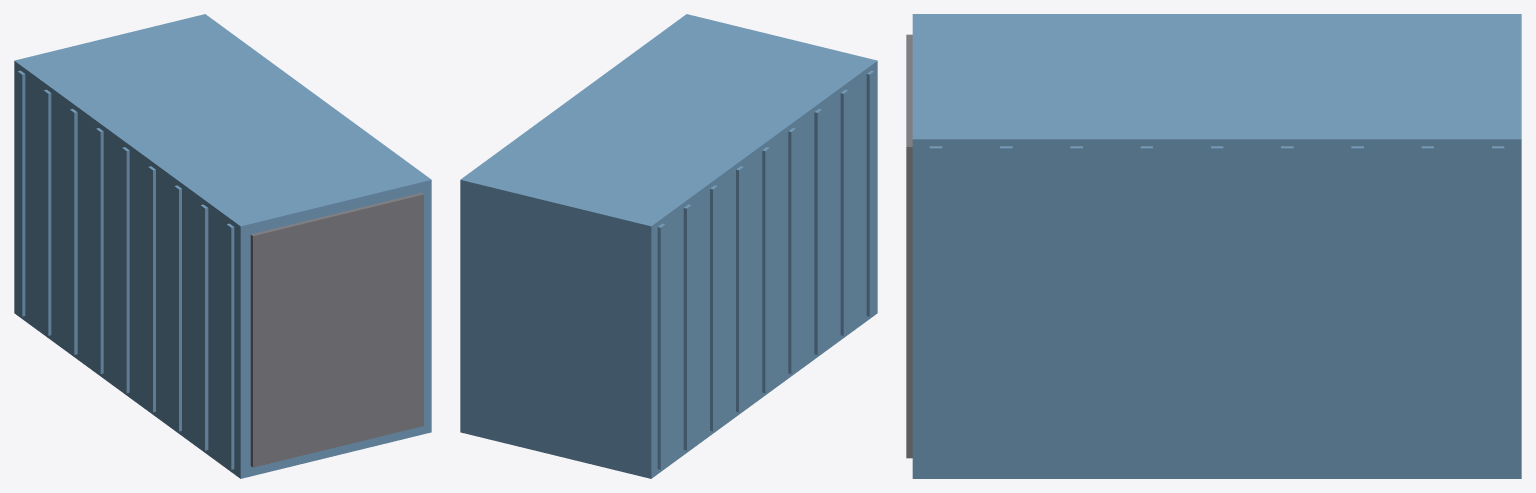
The model's file is IZ_Contenedor.fbx.
The picture shows the model from 3 angles, left to right: view 1: azimuth 30°, elevation 25°; view 2: azimuth 150°, elevation 25°; view 3: azimuth 270°, elevation 25°; orthographic projection. The views are drawn at different scales.
Parts seen in each view (by area): view 1: IZ_Contenedor; view 2: IZ_Contenedor; view 3: IZ_Contenedor.
Boxes of the visible parts, x1,y1,x2,y2 form: IZ_Contenedor: [14, 14, 431, 478]; IZ_Contenedor: [460, 14, 877, 478]; IZ_Contenedor: [906, 14, 1521, 478].
Size of the model in its own units: 1.96 by 2.4 by 3.94.
